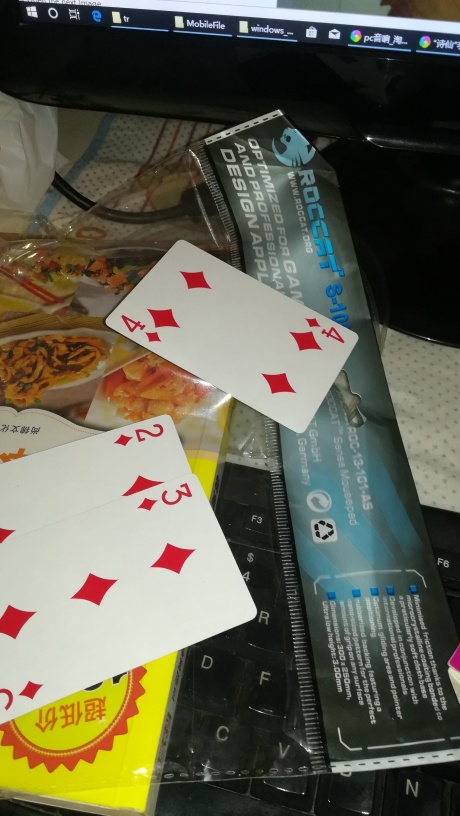fk 4: (103, 234, 367, 425)
